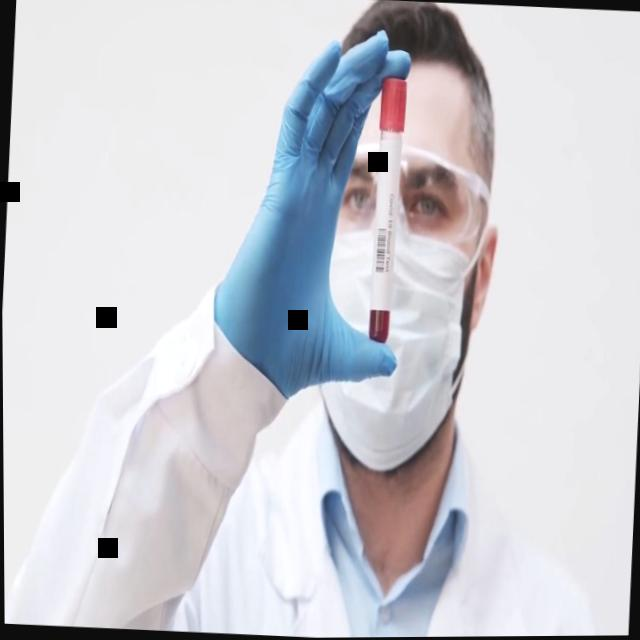Mask: (312, 130, 486, 480)
